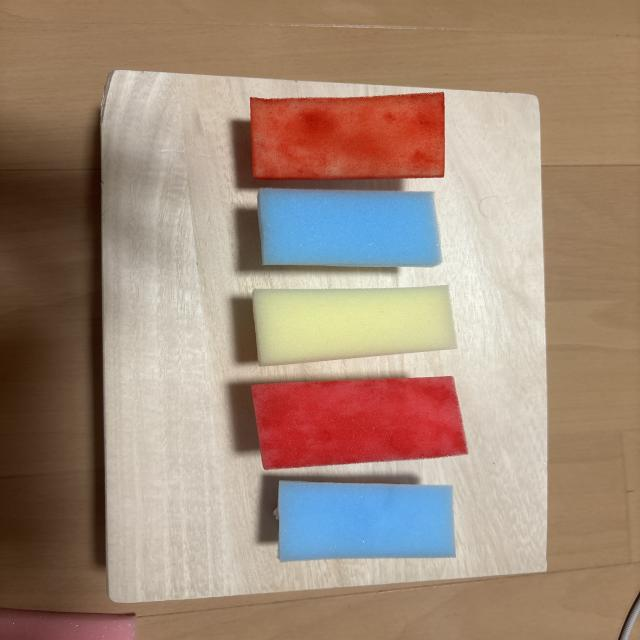ika: (278, 481, 455, 561), (259, 189, 441, 266)
maguro: (252, 376, 467, 470)
salmon: (251, 92, 445, 179)
tamago: (253, 286, 456, 366)
